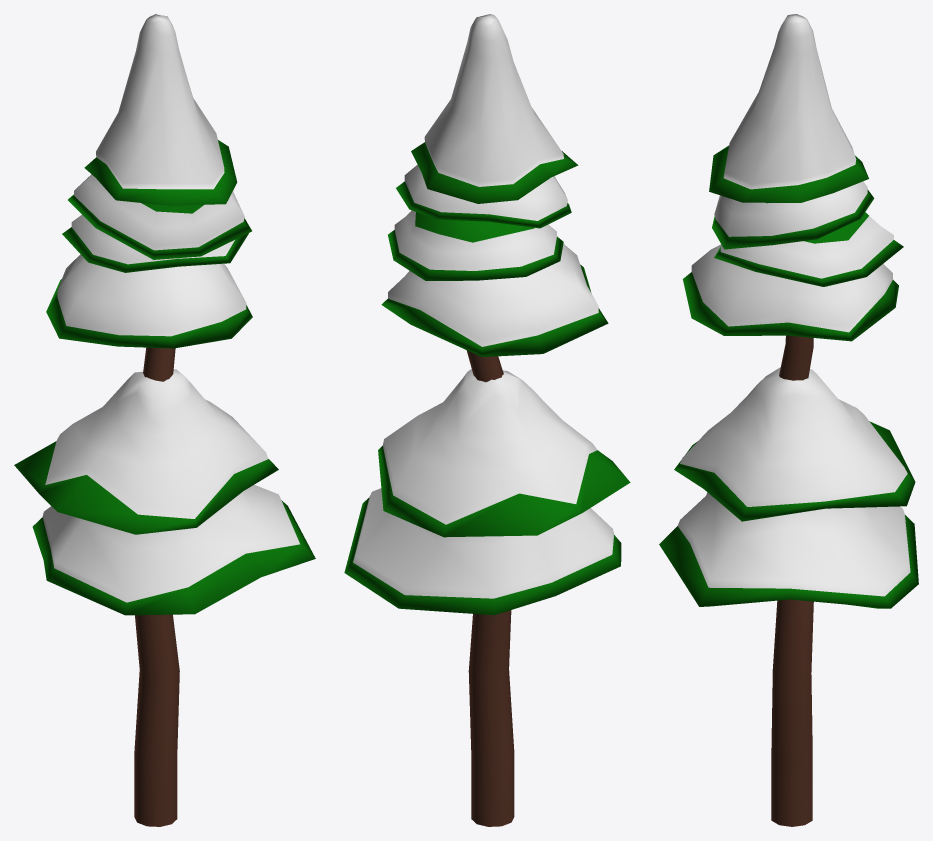
File: PineTreeA3.fbx
3 views of the same model, side by side, from view 1: azimuth 30°, elevation 25°; view 2: azimuth 150°, elevation 25°; view 3: azimuth 270°, elevation 25° (orthographic).
Visible parts, largest first — view 1: leaves3, trunk2; view 2: leaves3, trunk2; view 3: leaves3, trunk2.
Part boxes in pixels (box(x1,y1,x2,y2)): leaves3: box(14, 14, 315, 615); trunk2: box(134, 347, 179, 826); leaves3: box(344, 14, 630, 615); trunk2: box(466, 350, 514, 826); leaves3: box(659, 14, 918, 608); trunk2: box(771, 335, 813, 826).
Bounding box in the file's own units: 725 × 2218 × 650.
